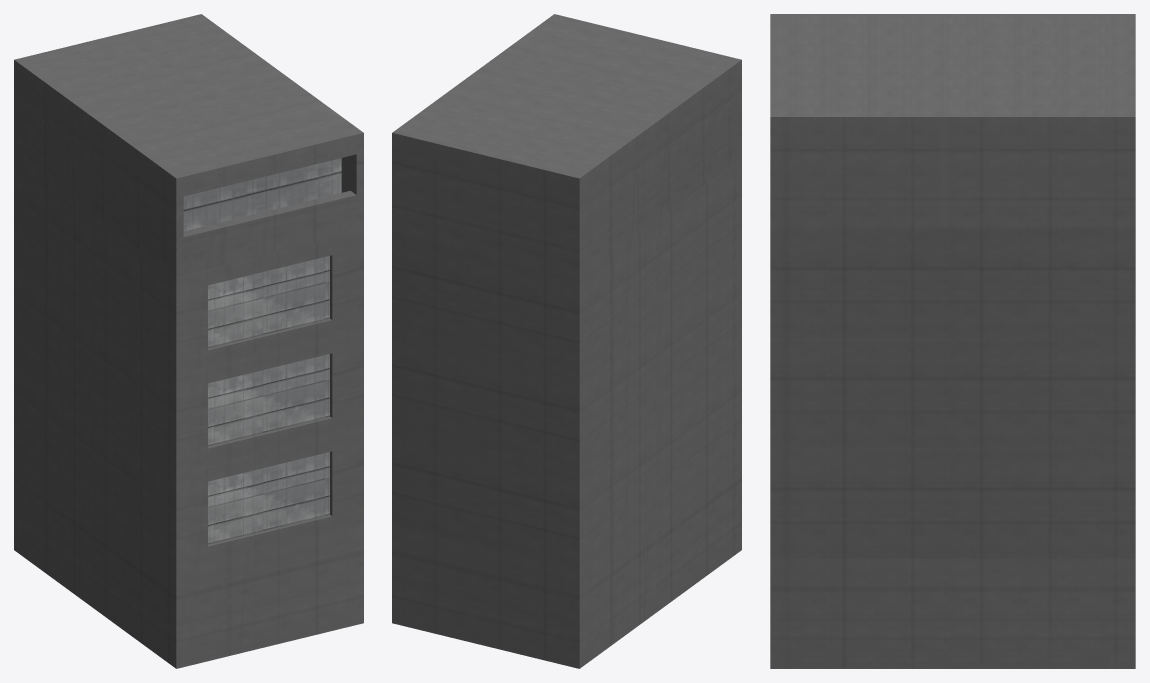
File: BgMD_Building_01_01.fbx
3 renders of one model, left to right at view 1: azimuth 30°, elevation 25°; view 2: azimuth 150°, elevation 25°; view 3: azimuth 270°, elevation 25°, orthographic. The views are drawn at different scales.
Parts seen in each view (by area): view 1: pCube57; view 2: pCube57; view 3: pCube57.
Boxes of the visible parts, <box> form: pCube57: <box>14,14,363,668</box>; pCube57: <box>392,14,741,668</box>; pCube57: <box>770,14,1135,668</box>.
Bounding box in the file's own units: 1000 × 2500 × 1500.
